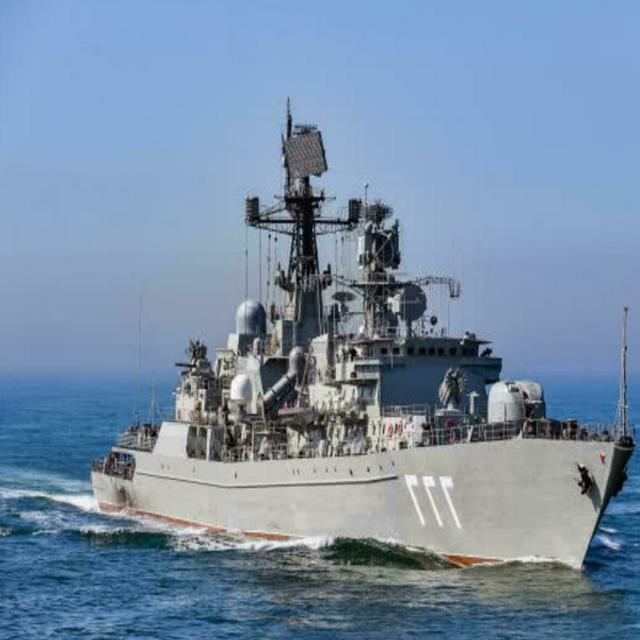navalvessels: (58, 98, 640, 581)
